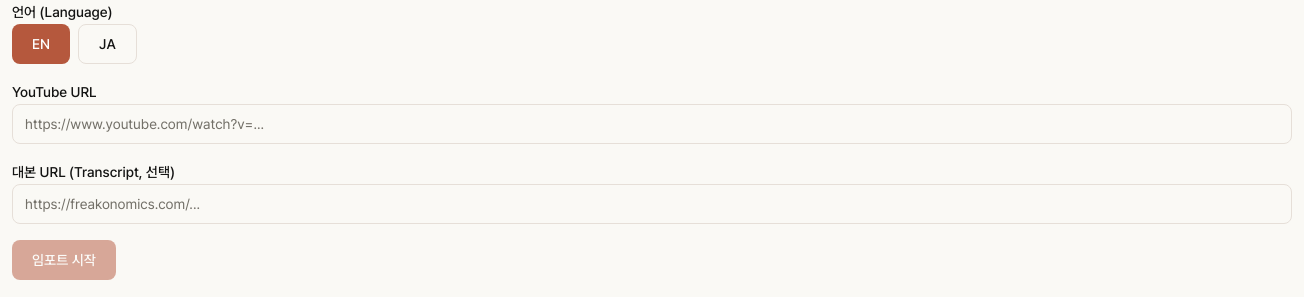
Test case: ImportForm (language) › should hide transcript input when 'JA' is selected
Expected: the field labelled "대본 URL (Transcript, 선택)" is shown, [12, 184, 1292, 224]
Click the button "JA" at (107, 44), box [78, 24, 137, 64]
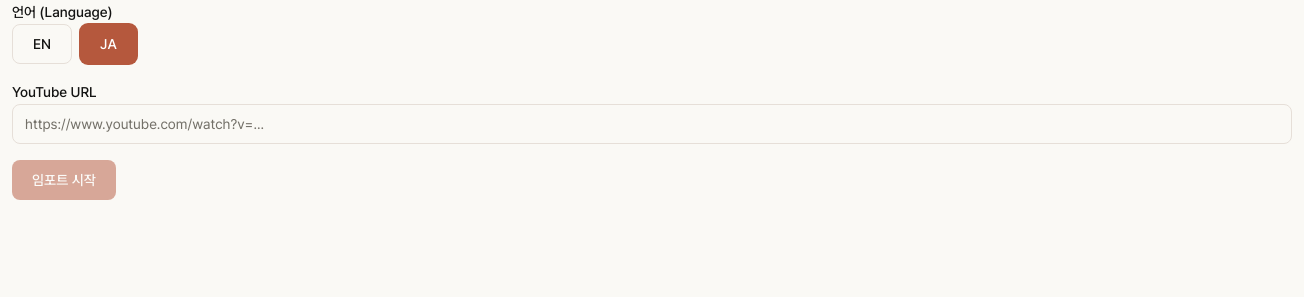
Expected: the label labelled "대본 URL (Transcript, 선택)" is gone
